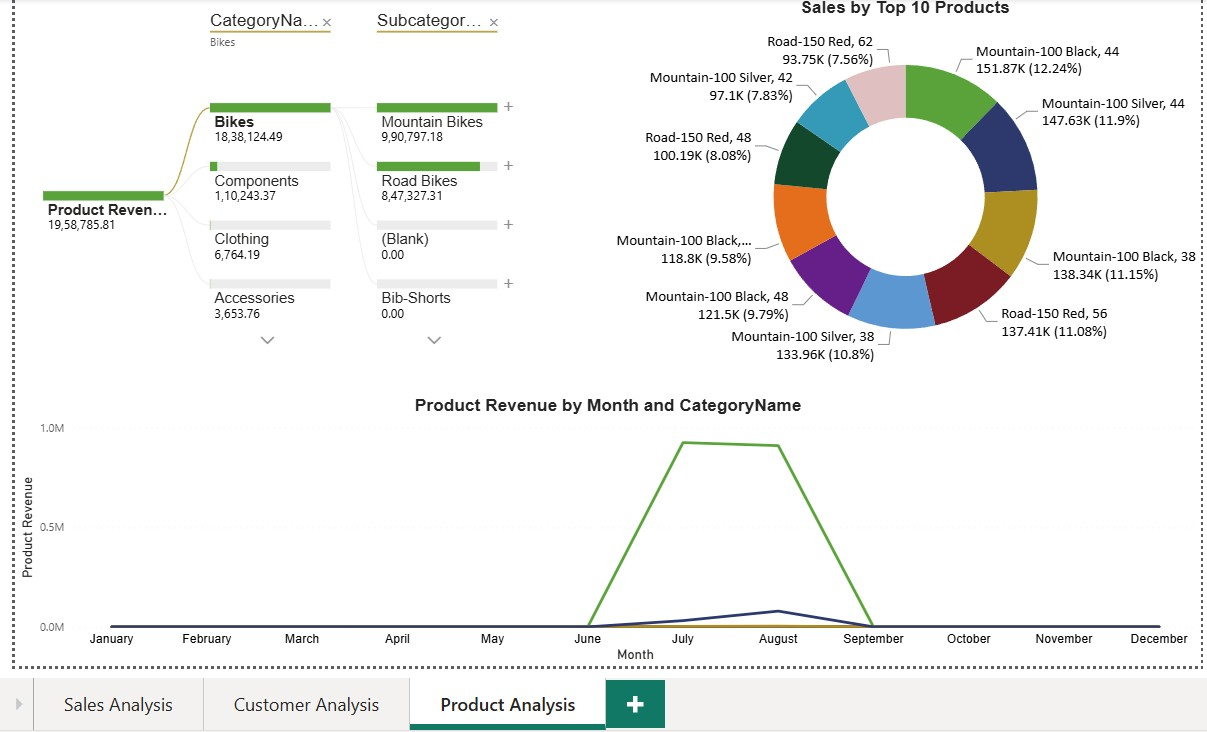

Layout of this report page (visuals, bound fields, positions):
{"tool":"powerbi","page":{"name":"Product Analysis","canvas":[1280,720],"ordinal":2},"visuals":[{"type":"donutChart","fields":{"Category":["product.ProductName"],"Y":["Sum(salesorderdetail.LineTotal)"]},"box":[640.7,0,639.1,407.7],"z":0},{"type":"lineChart","fields":{"Category":["salesorderheader.OrderDate.Variation.Date Hierarchy.Month"],"Y":["salesorderdetail.Product Revenue"],"Series":["productcategory.CategoryName"]},"box":[0,428.8,1279.8,291.2],"z":1000},{"type":"decompositionTreeVisual","fields":{"ExplainBy":["productcategory.CategoryName","productsubcategory.SubcategoryName","product.ProductName"],"Analyze":["salesorderdetail.Product Revenue"]},"box":[0,0,640.7,407.7],"z":2000}]}

Visuals, with their boxes in screenshot pixels (x1, y1, x2, y2):
donutChart - product.ProductName x Sum(salesorderdetail.LineTotal): box=[605, 0, 1200, 332]
lineChart - salesorderheader.OrderDate.Variation.Date Hierarchy.Month x salesorderdetail.Product Revenue: box=[9, 352, 1200, 622]
decompositionTreeVisual - productcategory.CategoryName x productsubcategory.SubcategoryName: box=[9, 0, 605, 332]
